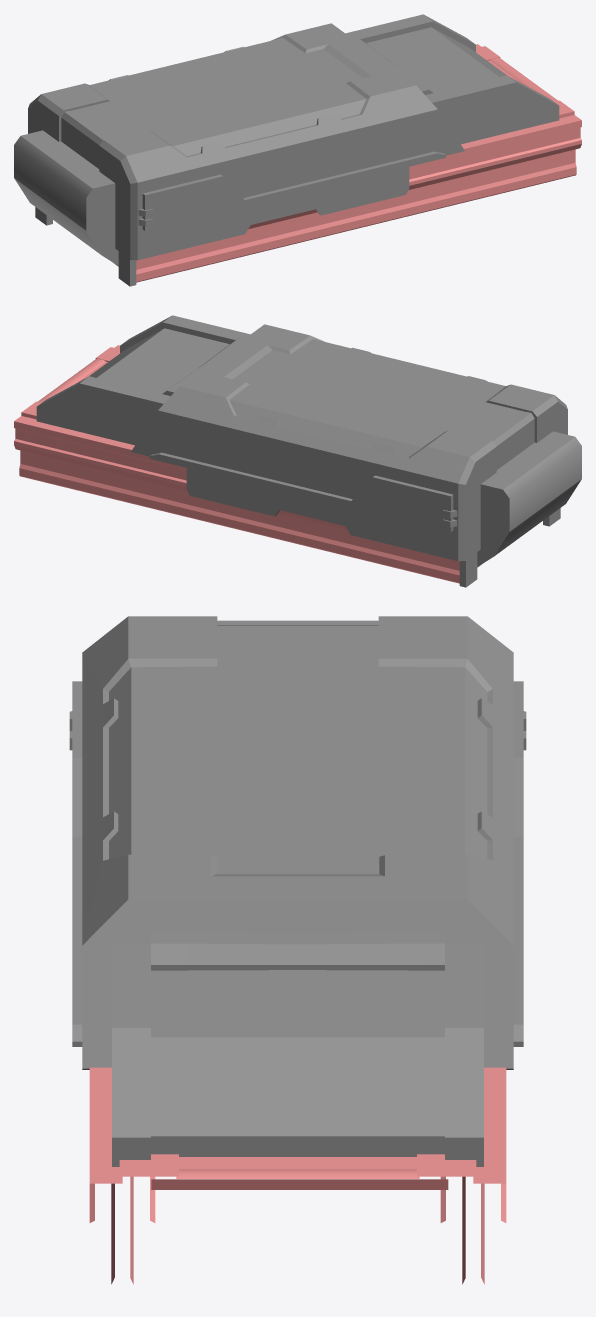
Rendered from S_Envi_Olgk_Track_01b.gltf.
3 renders of one model, top to bottom at view 1: azimuth 30°, elevation 25°; view 2: azimuth 150°, elevation 25°; view 3: azimuth 270°, elevation 25°, orthographic. The views are drawn at different scales.
Parts seen in each view (by area): view 1: S_Envi_Olgk_Track_01b; view 2: S_Envi_Olgk_Track_01b; view 3: S_Envi_Olgk_Track_01b.
Part boxes in pixels (<box>): S_Envi_Olgk_Track_01b: <box>14,14,581,286</box>; S_Envi_Olgk_Track_01b: <box>14,315,581,587</box>; S_Envi_Olgk_Track_01b: <box>69,616,526,1284</box>.
Size of the model in its own units: 8.04 by 2.03 by 3.32.
